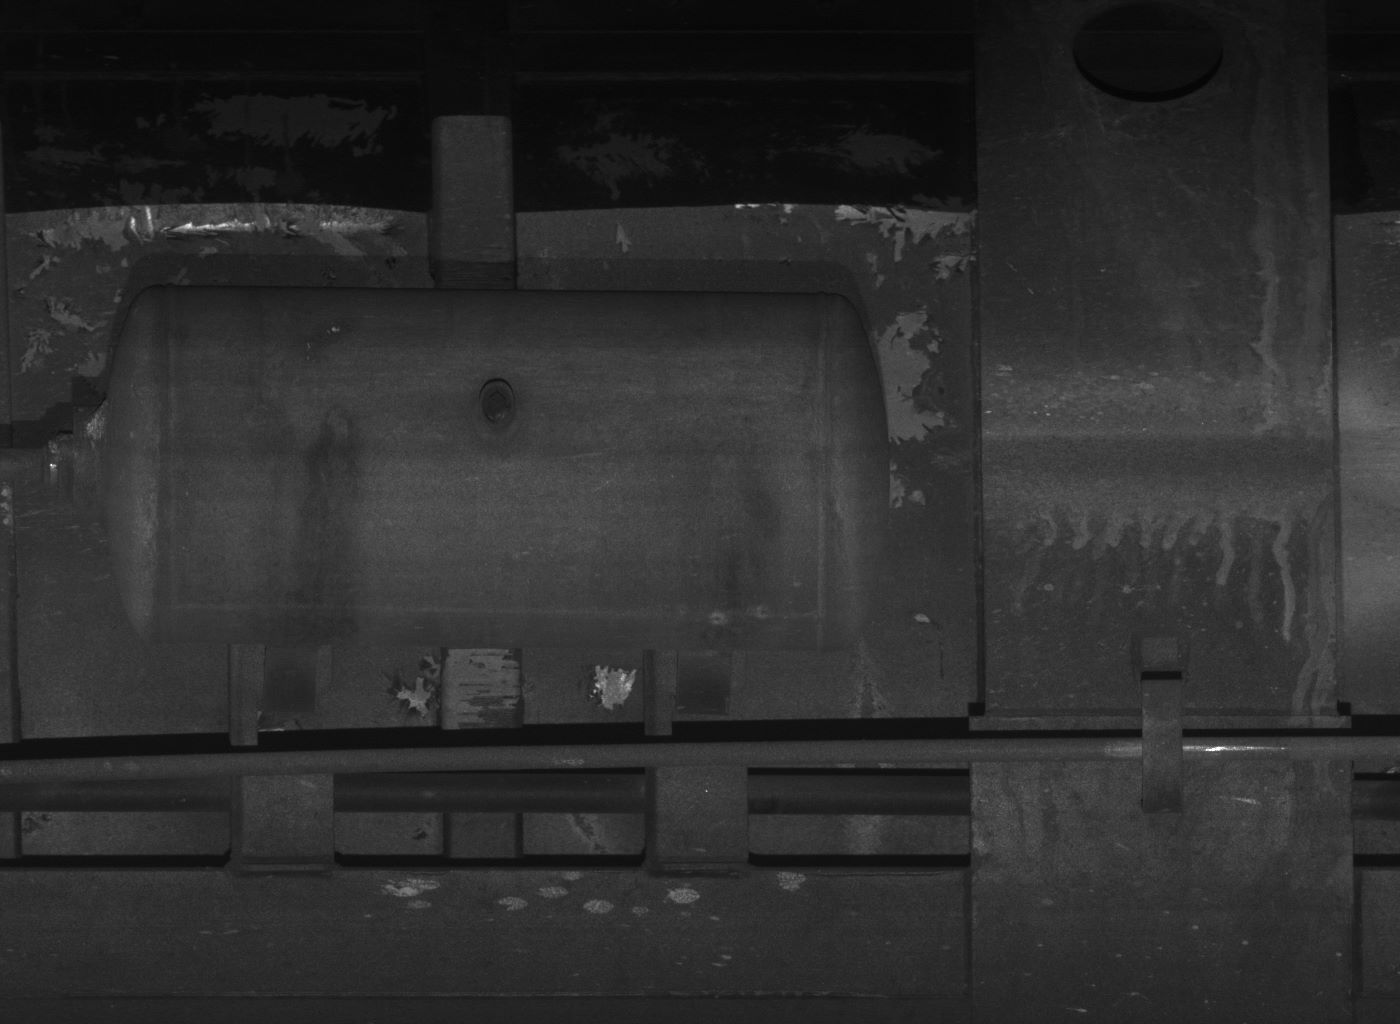normal: (1133, 634, 1179, 813)
